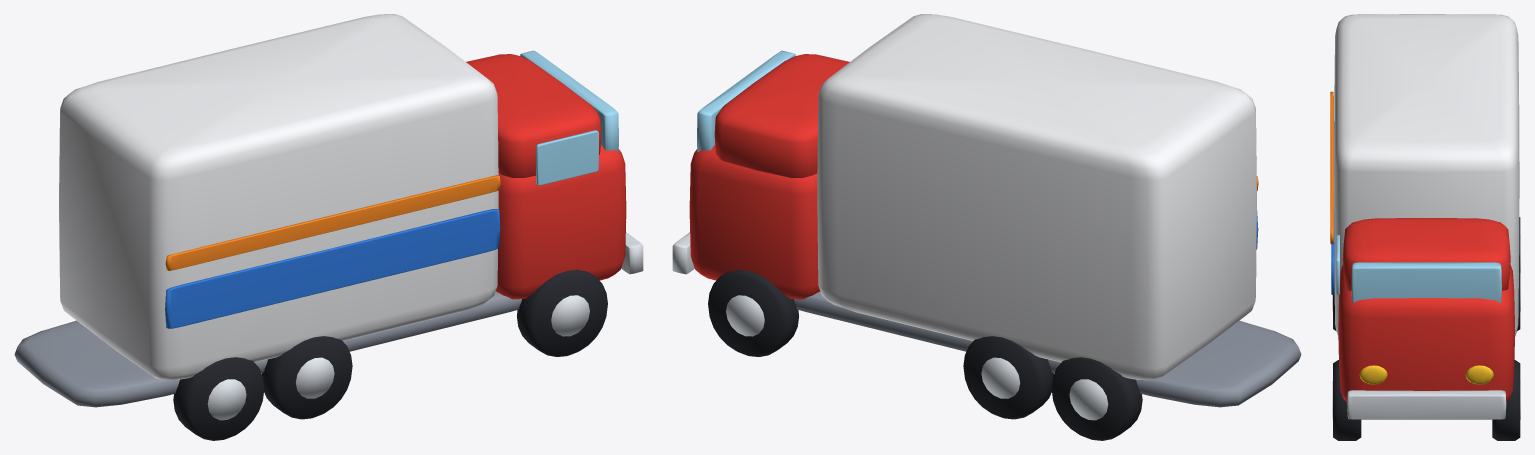
Rendered from truck.glb.
The picture shows the model from 3 angles, left to right: view 1: azimuth 30°, elevation 25°; view 2: azimuth 150°, elevation 25°; view 3: azimuth 270°, elevation 25°; orthographic projection. The views are drawn at different scales.
Visible parts, largest first — view 1: Body, Wheel4, Wheel0, Wheel2; view 2: Body, Wheel5, Wheel1, Wheel3; view 3: Body, Wheel4, Wheel5.
Boxes of the visible parts, bbox=[...] form: Body: bbox=[14, 14, 643, 407]; Wheel4: bbox=[517, 269, 607, 356]; Wheel0: bbox=[173, 357, 264, 440]; Wheel2: bbox=[262, 336, 352, 419]; Body: bbox=[672, 14, 1301, 407]; Wheel5: bbox=[708, 269, 798, 356]; Wheel1: bbox=[1051, 357, 1142, 440]; Wheel3: bbox=[963, 336, 1053, 419]; Body: bbox=[1330, 14, 1519, 419]; Wheel4: bbox=[1332, 360, 1361, 440]; Wheel5: bbox=[1492, 360, 1520, 440].
Size of the model in its own units: 6.33 by 3.2 by 2.15.
